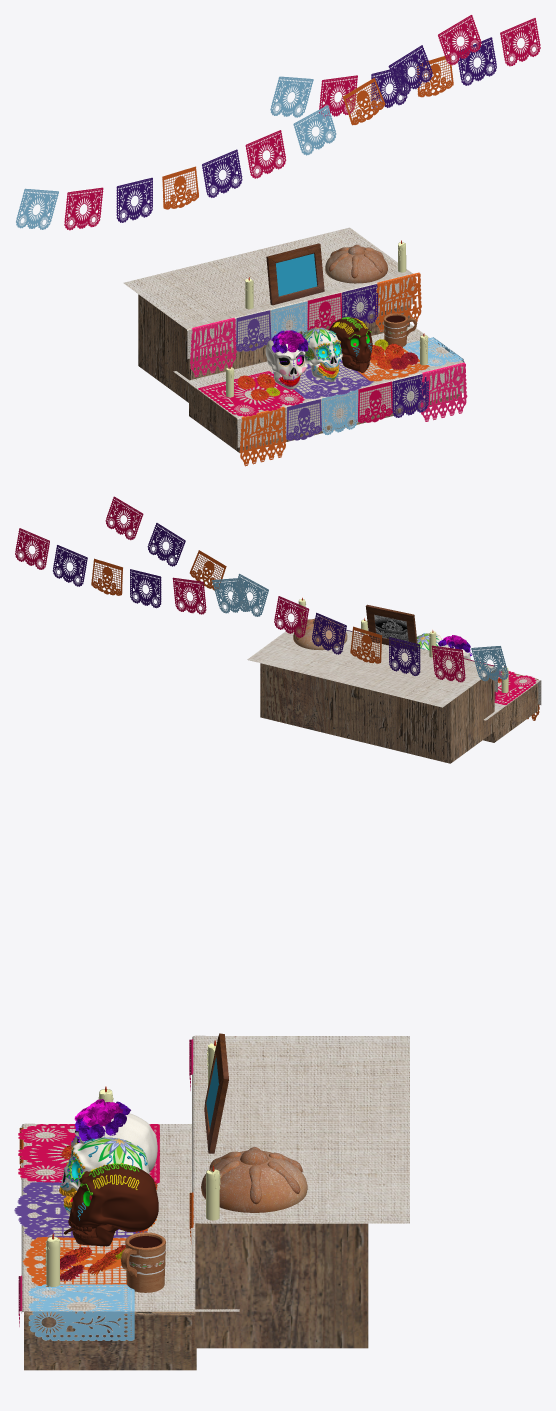
Rendered from ofrenda3.obj.
The picture shows the model from 3 angles, top to bottom: view 1: azimuth 30°, elevation 25°; view 2: azimuth 150°, elevation 25°; view 3: azimuth 270°, elevation 25°; orthographic projection. The views are drawn at different scales.
Parts seen in each view (by area): view 1: Mantel_blanco_mantel_blanco_001, Mantel_blanco_02_mantel_blanco_001, Mesa_altar_03_mesa_altar_001, Mesa_altar_01_mesa_altar_001, papel_dia_rosa_01_Papel_picado_01_001, papel_dia_naranja_02_papel_picado_dia_naranja_01_001, papel_base_rosa_04_papel_base_rosa1_001, papel_dia_rosa_02_Papel_picado_01_001, papel_dia_naranja_01_papel_picado_dia_naranja_01_001, cuadro_ramka01_cuadro_marco_diffuse_001, pan_muerto_pan_muerto_base_pan_muerto1_001, cuadro_cristal_cristal_001 (+31 smaller); view 2: Mesa_altar_03_mesa_altar_001, Mantel_blanco_mantel_blanco_001, Mesa_altar_01_mesa_altar_001, papel_base_rosa_03_papel_base_rosa1_001, papel_base_rosa_06_papel_base_rosa1_001, papel_base_azul2_papel_base_azul_01_001, cuadro_ramka01_cuadro_marco_diffuse_001, papel_base_morado6_papel_base_naranja_01_001, papel_base_morado7_papel_base_naranja_01_001, papel_base_rosa_02_papel_base_rosa1_001, papel_base_morado2_papel_base_naranja_01_001, papel_base_morado3_papel_base_naranja_01_001 (+12 smaller); view 3: Mantel_blanco_mantel_blanco_001, Mesa_altar_03_mesa_altar_001, Mantel_blanco_02_mantel_blanco_001, Mesa_altar_01_mesa_altar_001, papel_base_azul4_papel_base_azul_01_001, CALAVERA_06_CHOCOLATE_Craneo_superior_base_01__chocolate_calaver, pan_muerto_pan_muerto_base_pan_muerto1_001, papel_base_rosa_04_papel_base_rosa1_001, papel_calavera_morado3_PAPEL_CALAVERA_001, papel_calavera_naranja_04_papel_calavera_naranja_01_001, Craneo_superior_base_01_azucar_001, taza_barro_01_Taza_barro_01_taza_barro_01_taza_barro_001 (+2 smaller).
Part boxes in pixels (x1,y1,x2,y2): Mantel_blanco_mantel_blanco_001: [123, 227, 414, 359]; Mantel_blanco_02_mantel_blanco_001: [173, 323, 463, 447]; Mesa_altar_03_mesa_altar_001: [138, 294, 409, 402]; Mesa_altar_01_mesa_altar_001: [189, 384, 459, 452]; papel_dia_rosa_01_Papel_picado_01_001: [190, 317, 236, 377]; papel_dia_naranja_02_papel_picado_dia_naranja_01_001: [239, 406, 286, 466]; papel_base_rosa_04_papel_base_rosa1_001: [198, 371, 304, 416]; papel_dia_rosa_02_Papel_picado_01_001: [420, 362, 467, 421]; papel_dia_naranja_01_papel_picado_dia_naranja_01_001: [375, 272, 421, 331]; cuadro_ramka01_cuadro_marco_diffuse_001: [266, 243, 324, 305]; pan_muerto_pan_muerto_base_pan_muerto1_001: [325, 246, 387, 283]; cuadro_cristal_cristal_001: [276, 253, 317, 296]; Mesa_altar_03_mesa_altar_001: [260, 663, 494, 763]; Mantel_blanco_mantel_blanco_001: [247, 623, 497, 707]; Mesa_altar_01_mesa_altar_001: [483, 683, 538, 742]; papel_base_rosa_03_papel_base_rosa1_001: [15, 528, 49, 569]; papel_base_rosa_06_papel_base_rosa1_001: [274, 596, 309, 637]; papel_base_azul2_papel_base_azul_01_001: [212, 578, 249, 613]; cuadro_ramka01_cuadro_marco_diffuse_001: [365, 604, 417, 650]; papel_base_morado6_papel_base_naranja_01_001: [389, 637, 420, 675]; papel_base_morado7_papel_base_naranja_01_001: [312, 612, 346, 654]; papel_base_rosa_02_papel_base_rosa1_001: [172, 577, 206, 614]; papel_base_morado2_papel_base_naranja_01_001: [130, 569, 161, 608]; papel_base_morado3_papel_base_naranja_01_001: [52, 545, 87, 586]; Mantel_blanco_mantel_blanco_001: [192, 1035, 409, 1260]; Mesa_altar_03_mesa_altar_001: [195, 1223, 368, 1348]; Mantel_blanco_02_mantel_blanco_001: [21, 1123, 239, 1313]; Mesa_altar_01_mesa_altar_001: [24, 1311, 196, 1370]; papel_base_azul4_papel_base_azul_01_001: [28, 1284, 134, 1340]; CALAVERA_06_CHOCOLATE_Craneo_superior_base_01__chocolate_calaver: [69, 1164, 158, 1231]; pan_muerto_pan_muerto_base_pan_muerto1_001: [201, 1150, 307, 1212]; papel_base_rosa_04_papel_base_rosa1_001: [18, 1124, 159, 1183]; papel_calavera_morado3_PAPEL_CALAVERA_001: [14, 1182, 147, 1239]; papel_calavera_naranja_04_papel_calavera_naranja_01_001: [22, 1237, 126, 1286]; Craneo_superior_base_01_azucar_001: [60, 1137, 149, 1193]; taza_barro_01_Taza_barro_01_taza_barro_01_taza_barro_001: [125, 1232, 165, 1292].
Size of the model in its own units: 170 by 79.16 by 83.06.
38 materials, 20 textured.
